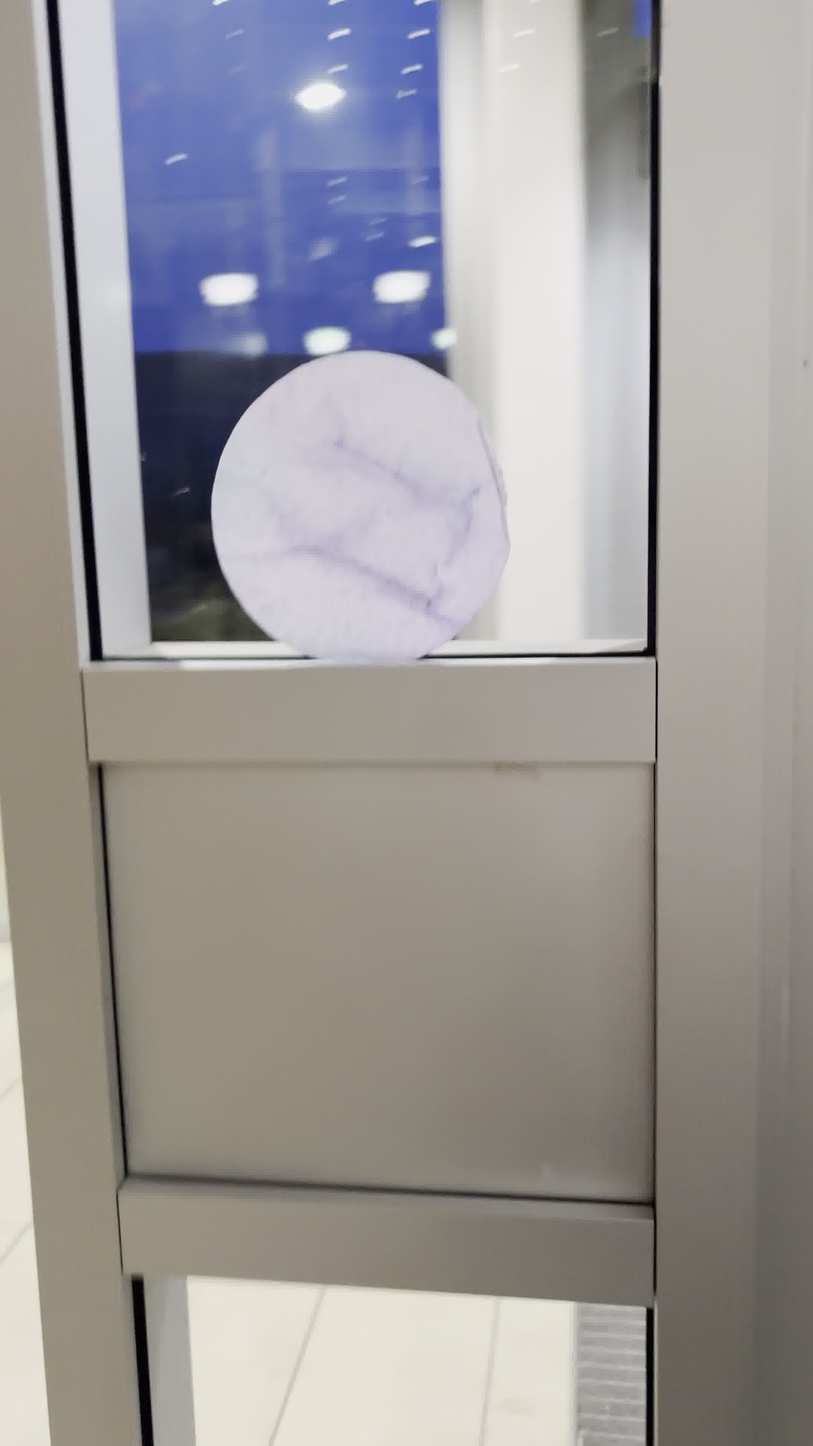Target: (203, 344, 514, 681)
